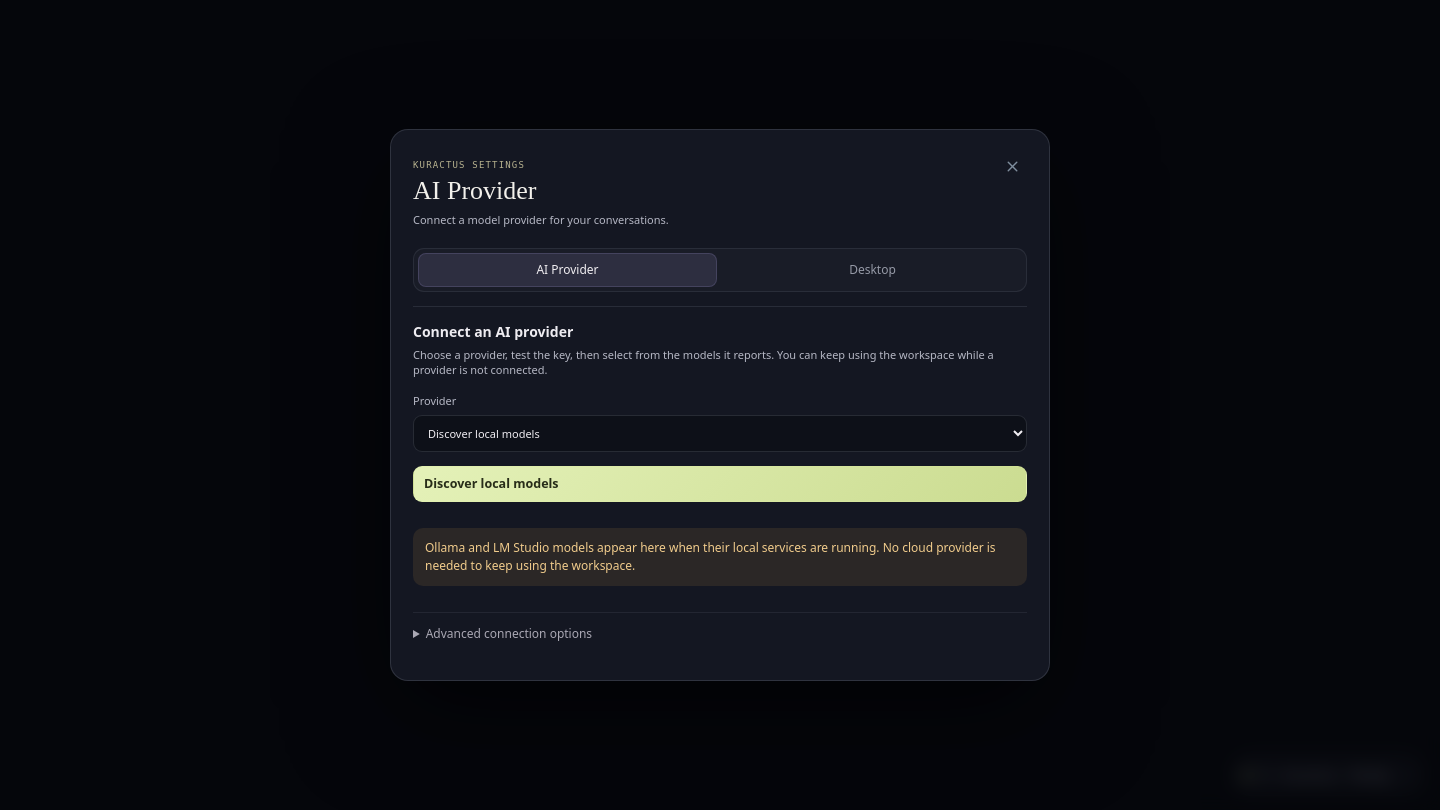
Test: DesktopRuntimeControl settings › does not present a rejected provider key as a connected model or expose the key in errors
Check: the dialog "AI Provider" is shown, box [390, 130, 1050, 680]
Select "OpenAI" in the dropdown labelled "Provider" at (720, 433), box [413, 415, 1027, 452]
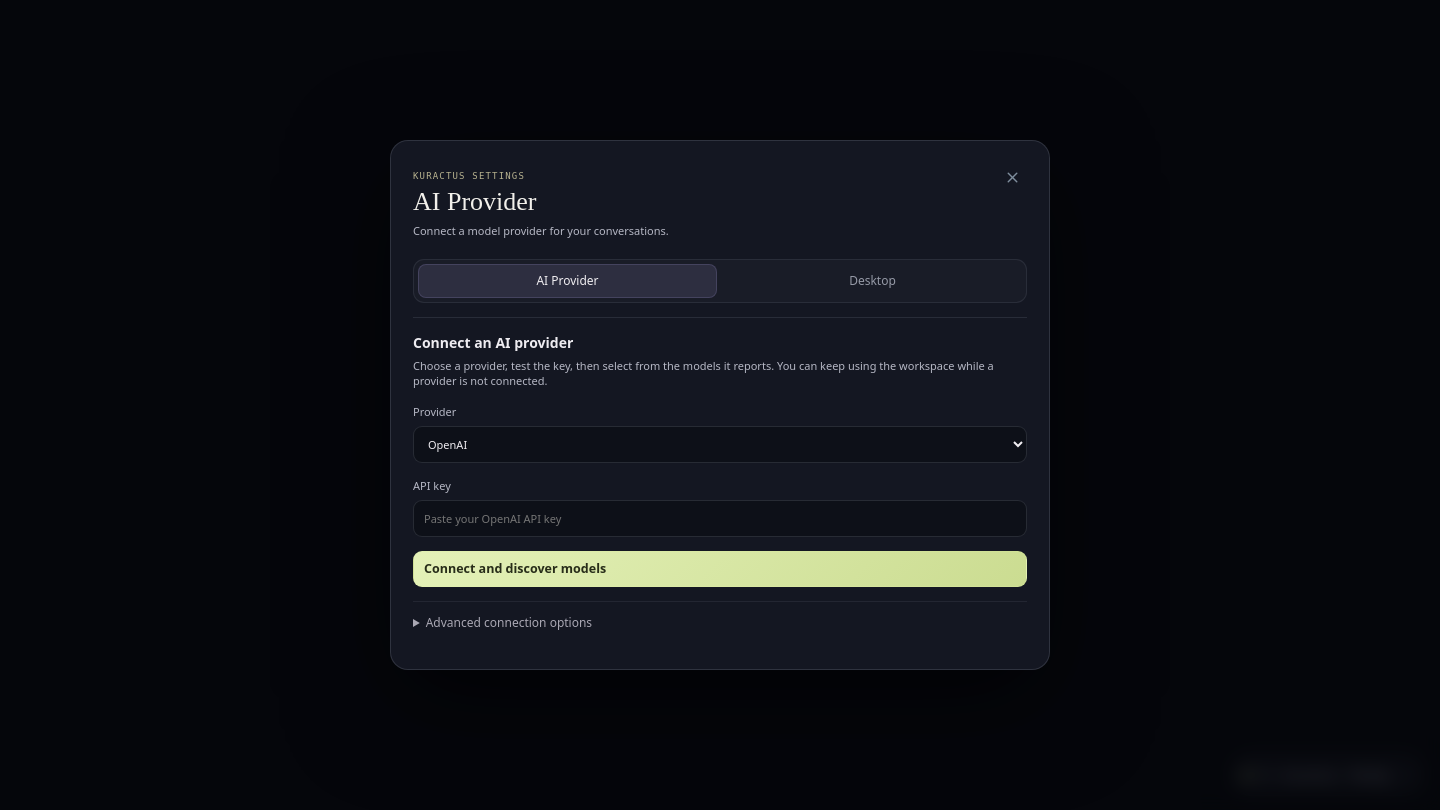
Type "sk-rejected-private" into the password field with placeholder "Paste your OpenAI API key".
click(720, 518); type("sk-rejected-private")  # box [413, 500, 1027, 537]
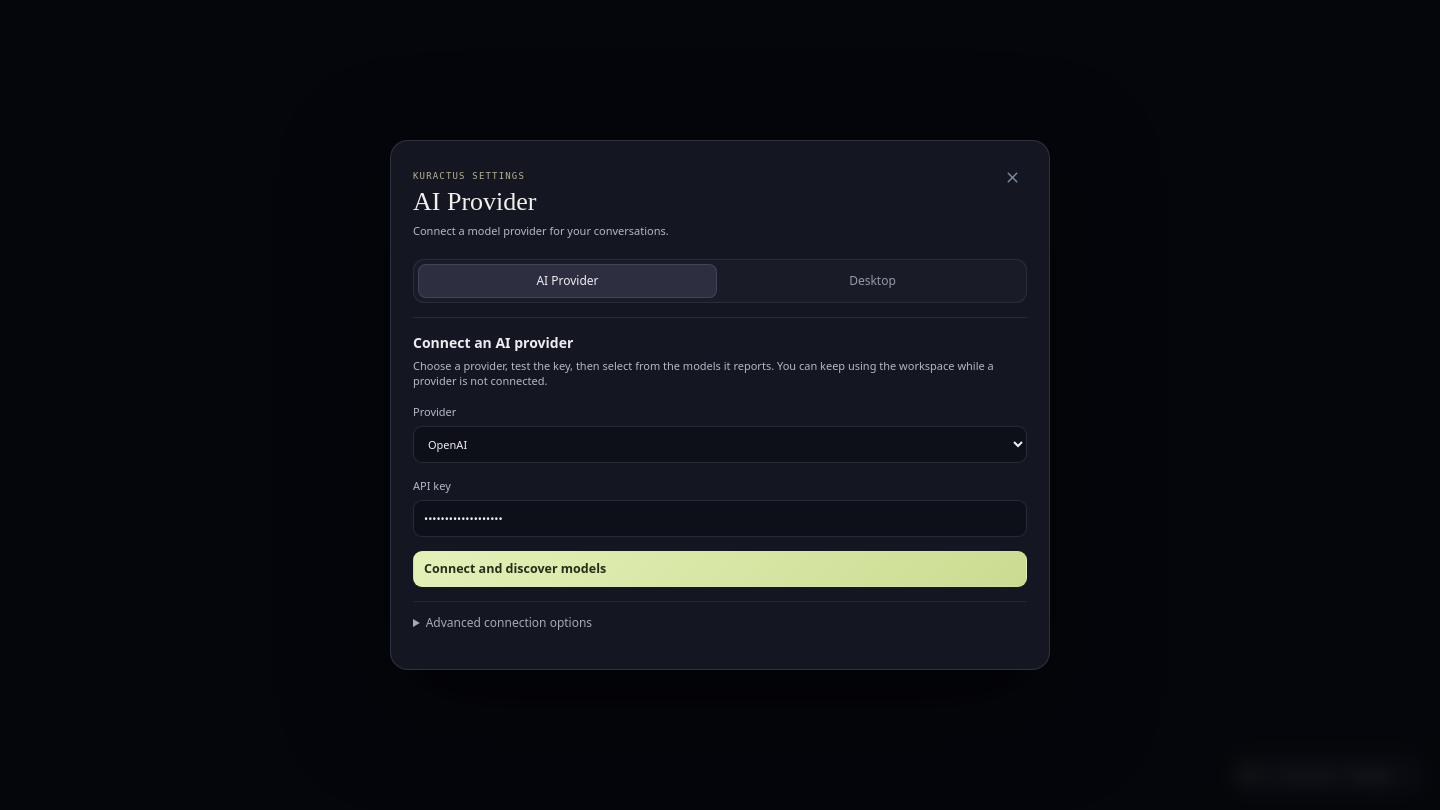
Click the button "Connect and discover models".
click(515, 569)  # box [413, 551, 1027, 587]
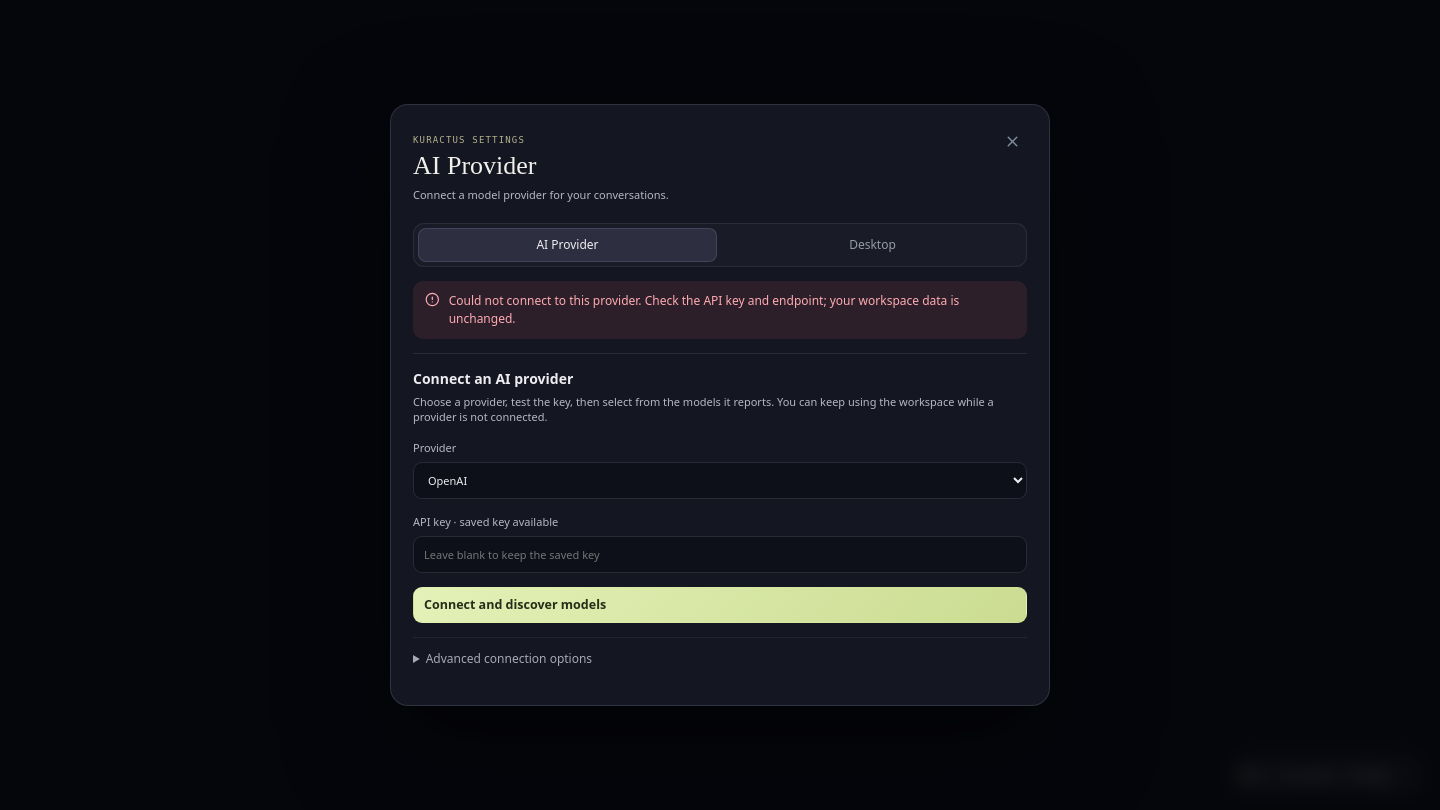
Check: the message shows "Could not connect to this provider. Check the API key and endpoint", box [449, 292, 959, 327]
